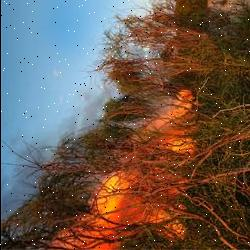fire: (40, 89, 194, 250)
